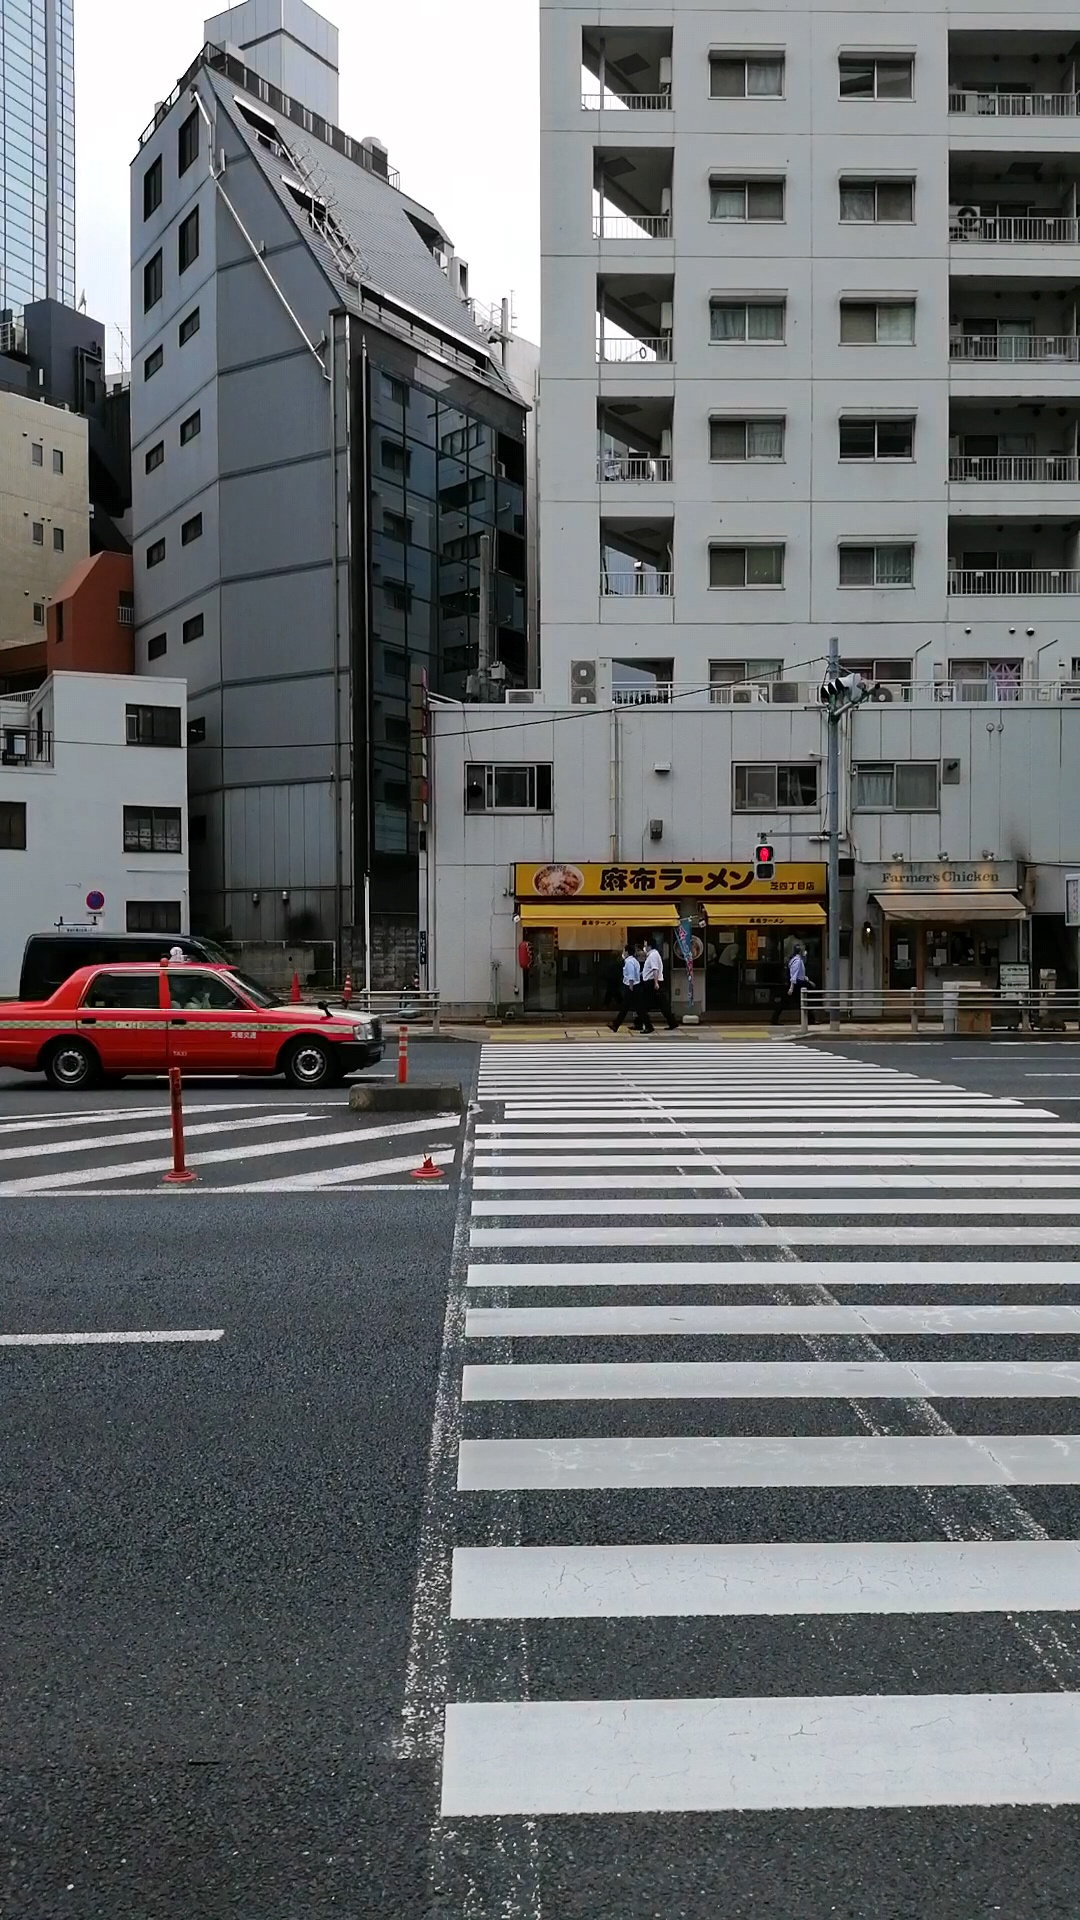red: (752, 845, 775, 882)
